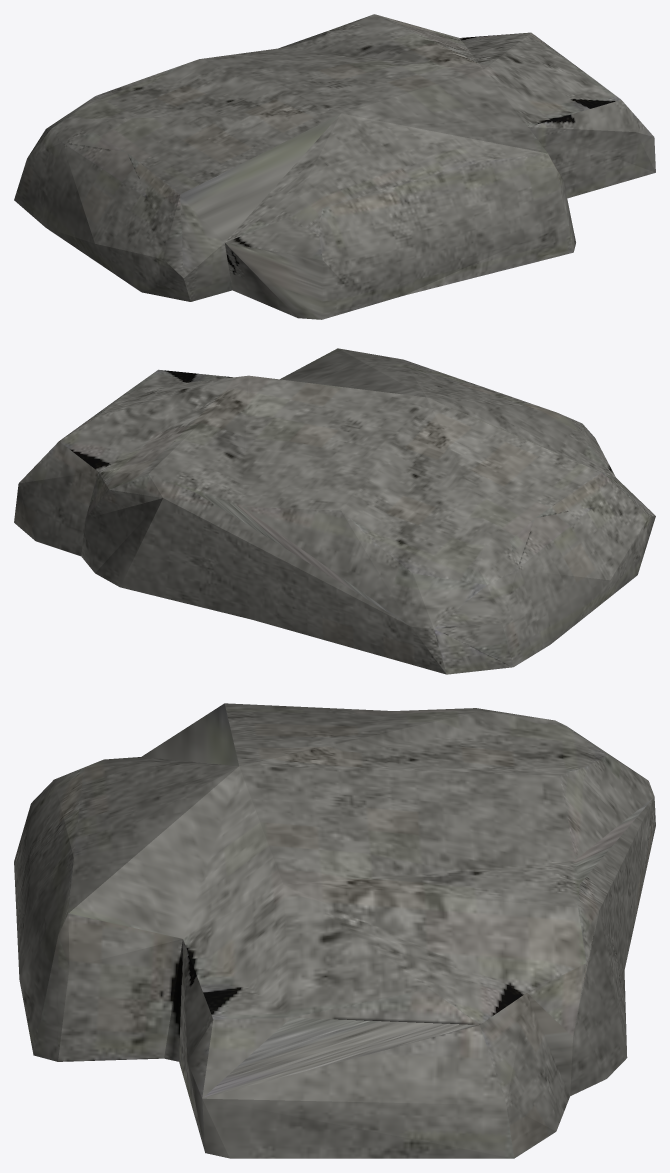
File: Granite1_LOD1.FBX
3 views of the same model, one above another, from view 1: azimuth 30°, elevation 25°; view 2: azimuth 150°, elevation 25°; view 3: azimuth 270°, elevation 25° (orthographic). The views are drawn at different scales.
Visible parts, largest first — view 1: Granite003; view 2: Granite003; view 3: Granite003.
Boxes of the visible parts, box(x1,y1,x2,y2) form: Granite003: box(14, 14, 655, 319); Granite003: box(14, 348, 655, 674); Granite003: box(14, 703, 655, 1158).
Bounding box in the file's own units: 29.02 × 6.74 × 21.69.
1 material, 1 textured.
